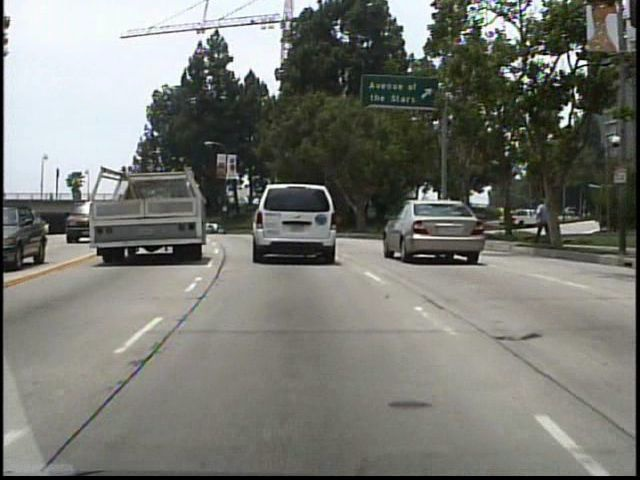person: (528, 191, 556, 251)
